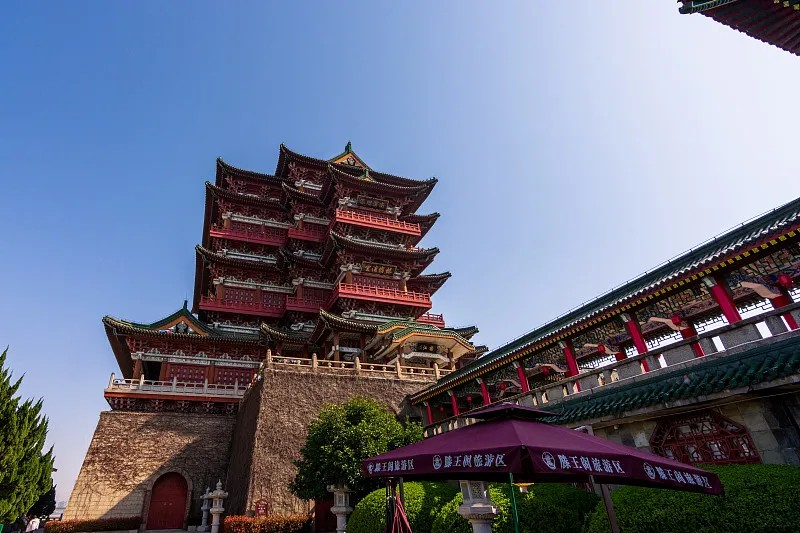Teng: (102, 139, 489, 389)
